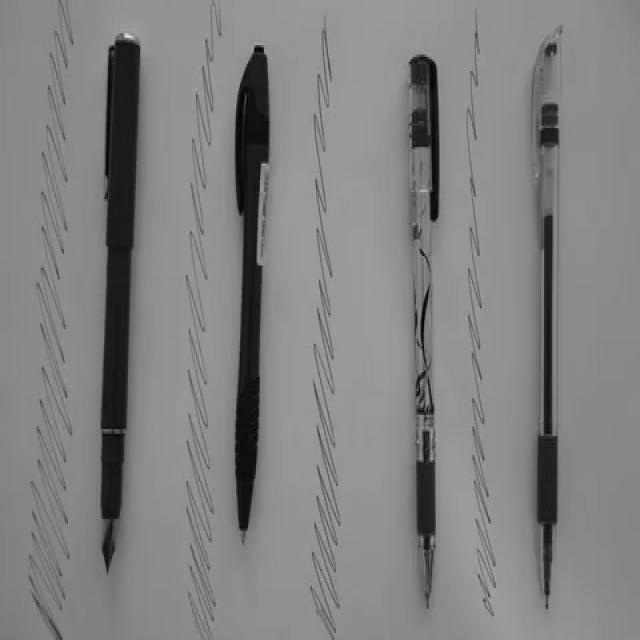pencil: (392, 37, 466, 612), (82, 25, 153, 576), (220, 44, 288, 554), (522, 18, 571, 615)
